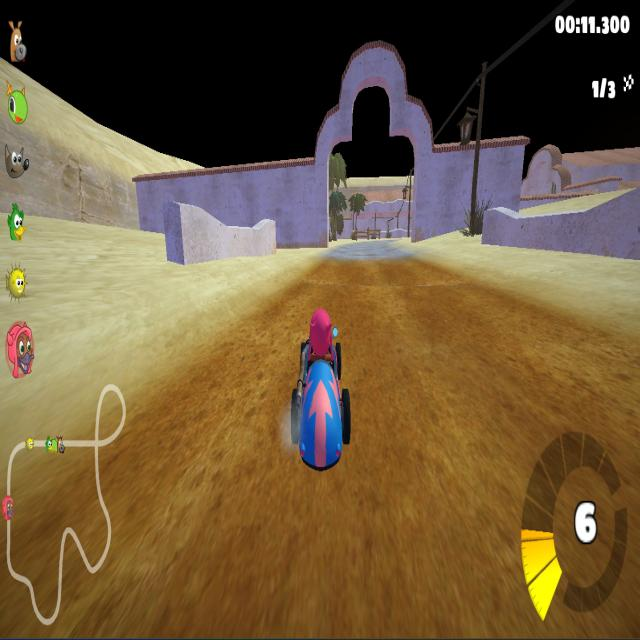player_kart: (290, 308, 352, 480)
track: (355, 307, 638, 640), (5, 482, 355, 632), (202, 312, 287, 484), (87, 384, 201, 483), (334, 242, 409, 299), (411, 264, 486, 300), (286, 273, 332, 305), (316, 259, 332, 277)
